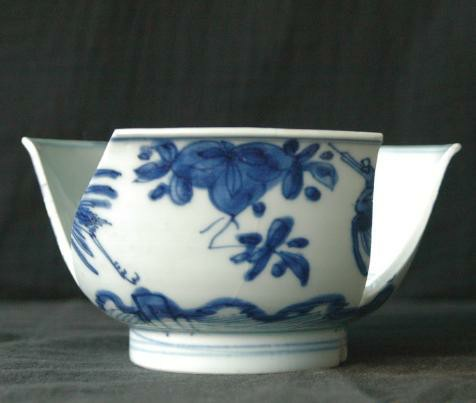ceramics: (13, 119, 465, 378)
